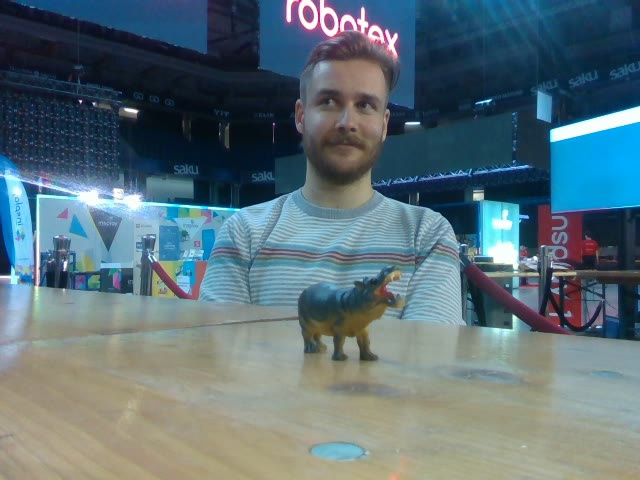toy: (296, 266, 406, 363)
